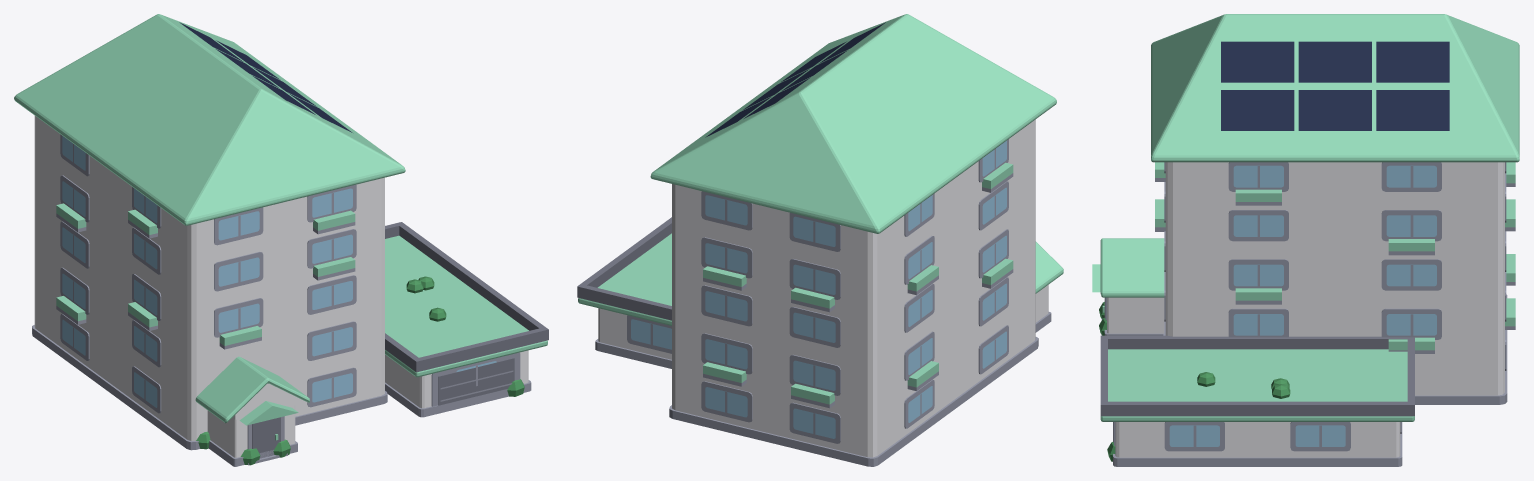
File: house-2x2-5f-mansard-a-solar.glb
The picture shows the model from 3 angles, left to right: view 1: azimuth 30°, elevation 25°; view 2: azimuth 150°, elevation 25°; view 3: azimuth 270°, elevation 25°; orthographic projection. The views are drawn at different scales.
Visible parts, largest first — view 1: house-2x2-5f-mansard-a-solar; view 2: house-2x2-5f-mansard-a-solar; view 3: house-2x2-5f-mansard-a-solar.
Boxes of the visible parts, x1,y1,x2,y2 form: house-2x2-5f-mansard-a-solar: (14, 14, 548, 466); house-2x2-5f-mansard-a-solar: (577, 14, 1063, 466); house-2x2-5f-mansard-a-solar: (1092, 14, 1519, 466).
Bounding box in the file's own units: 2 × 1.78 × 2.04.
Materials: 1 (1 with a texture image).
